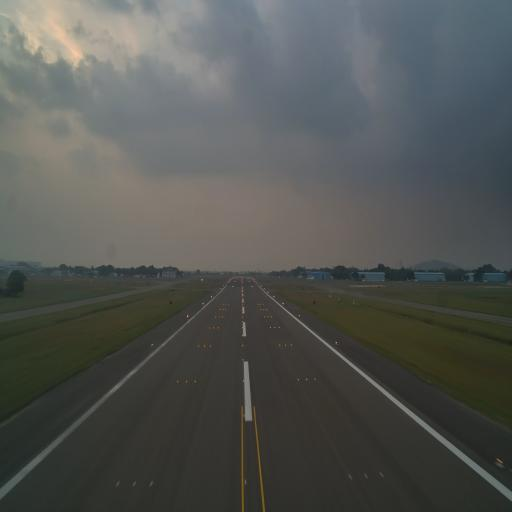on: (494, 453, 504, 469), (378, 470, 386, 480), (348, 472, 354, 484), (363, 470, 369, 481), (132, 478, 137, 489), (149, 479, 154, 490), (115, 480, 121, 487), (243, 477, 247, 485), (305, 376, 309, 383), (243, 411, 246, 419), (297, 376, 300, 384), (185, 378, 188, 385), (150, 343, 154, 348), (194, 378, 196, 384), (335, 341, 338, 345), (279, 343, 281, 348), (242, 379, 245, 382), (177, 380, 179, 384), (314, 378, 316, 382), (198, 344, 200, 348), (204, 344, 206, 348), (210, 344, 212, 348), (284, 343, 286, 347), (290, 343, 292, 347), (242, 359, 244, 362), (242, 344, 244, 347)
